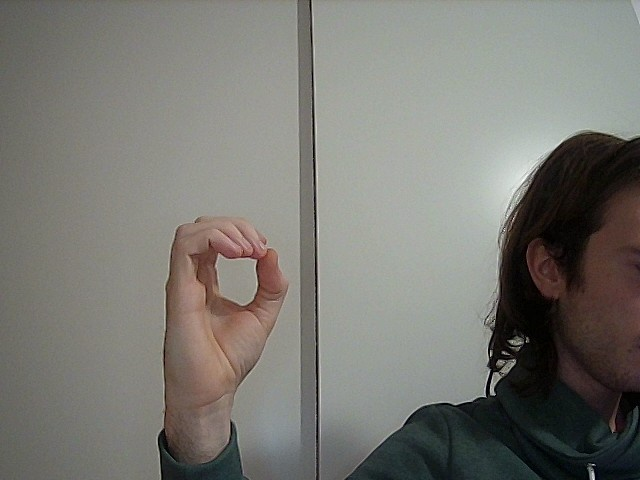o: (144, 209, 305, 387)
